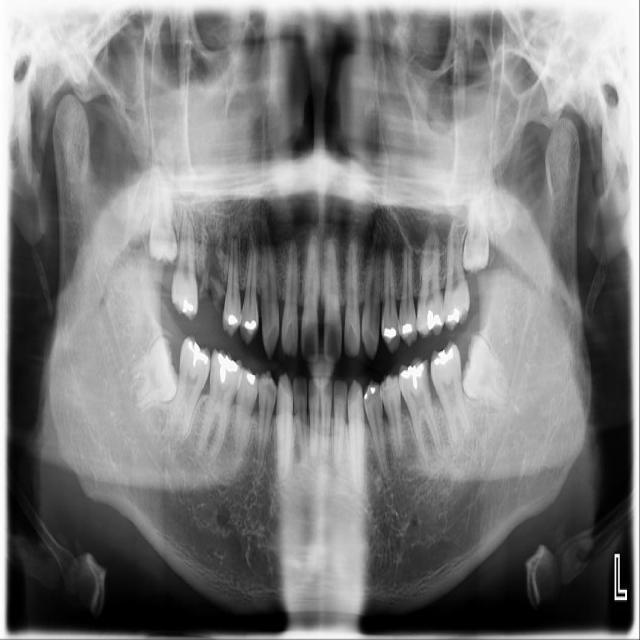Filling: (398, 361, 426, 393), (184, 340, 212, 370), (217, 352, 239, 385), (430, 349, 456, 366), (425, 309, 444, 331), (446, 306, 463, 324), (178, 300, 197, 316), (364, 385, 379, 402), (243, 318, 258, 334), (400, 321, 414, 338), (243, 373, 257, 387), (382, 326, 396, 338), (227, 314, 238, 327)
Root Piece: (210, 272, 224, 307), (210, 277, 227, 299), (200, 265, 211, 298)
impacted tooth: (121, 336, 178, 410), (465, 336, 515, 402), (147, 167, 178, 261), (463, 172, 490, 273)
